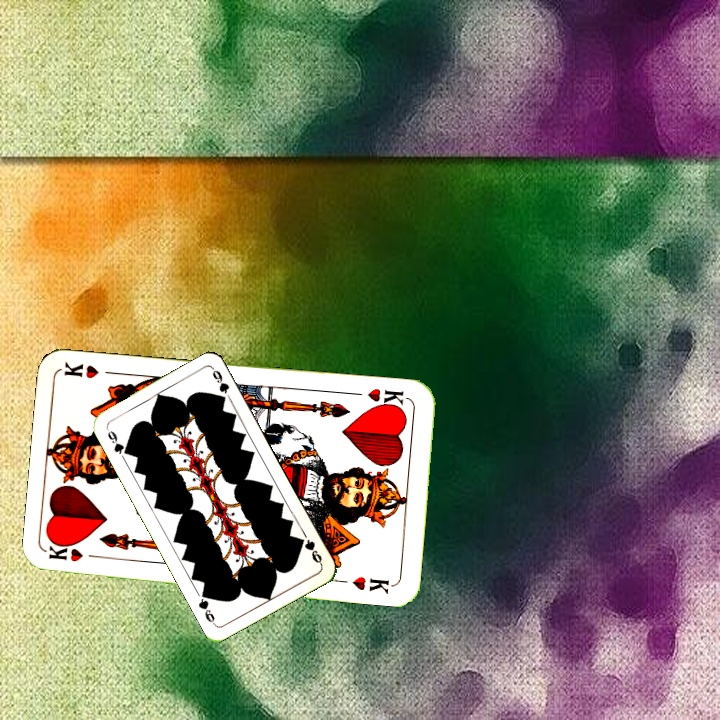G9: (294, 534, 325, 568), (102, 424, 132, 458)
HK: (46, 541, 105, 565), (363, 384, 410, 412)
